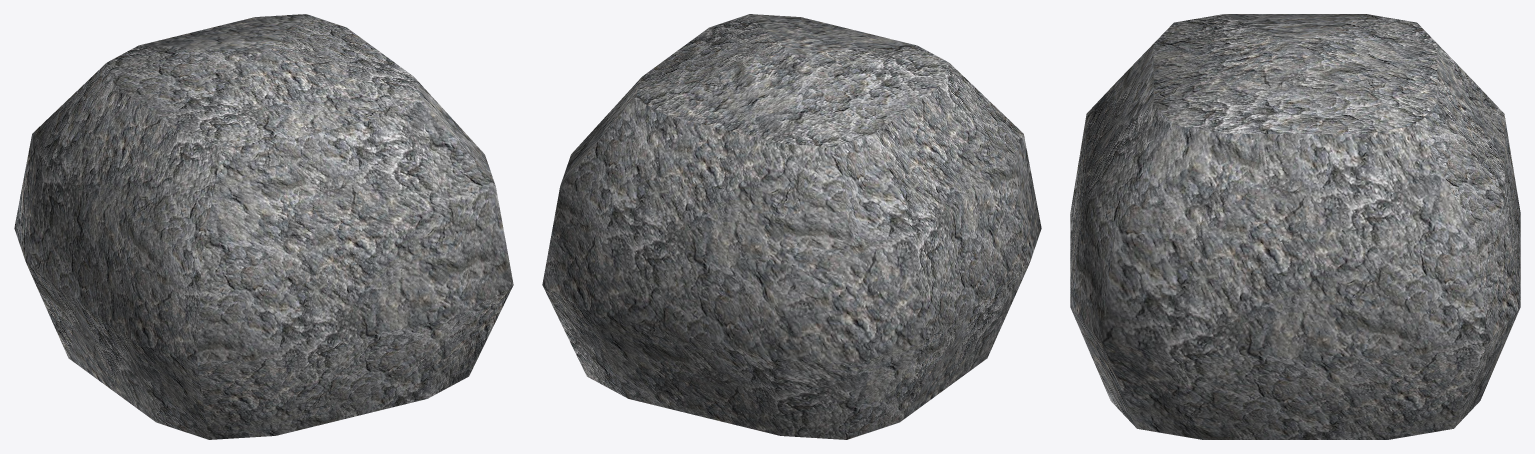
The model's file is Rock 1.fbx.
The picture shows the model from 3 angles, left to right: view 1: azimuth 30°, elevation 25°; view 2: azimuth 150°, elevation 25°; view 3: azimuth 270°, elevation 25°; orthographic projection. The views are drawn at different scales.
Parts seen in each view (by area): view 1: rock_bottom; view 2: rock_bottom; view 3: rock_bottom.
Part boxes in pixels (x1,y1,x2,y2): rock_bottom: [14, 14, 513, 439]; rock_bottom: [542, 14, 1041, 439]; rock_bottom: [1070, 14, 1520, 439].
Bounding box in the file's own units: 1 × 0.7766 × 1.
